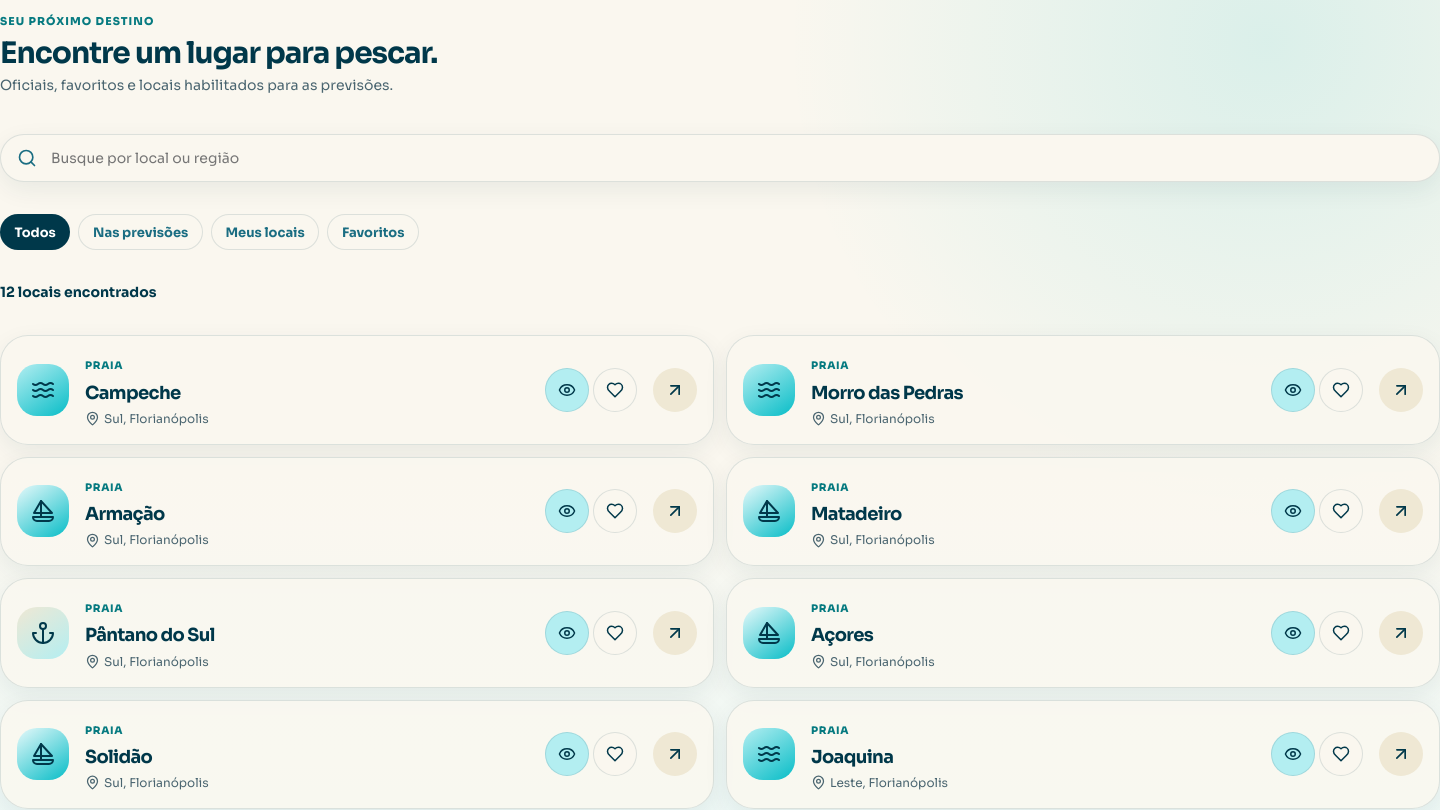
Test case: LocationsPage › filtra locais ignorando acentos
Expected: the text "12 locais encontrados" is shown, [0,283,156,301]
Type "acores" into the search field named "Buscar locais". click: (736,158)
box: [49,147,1423,170]
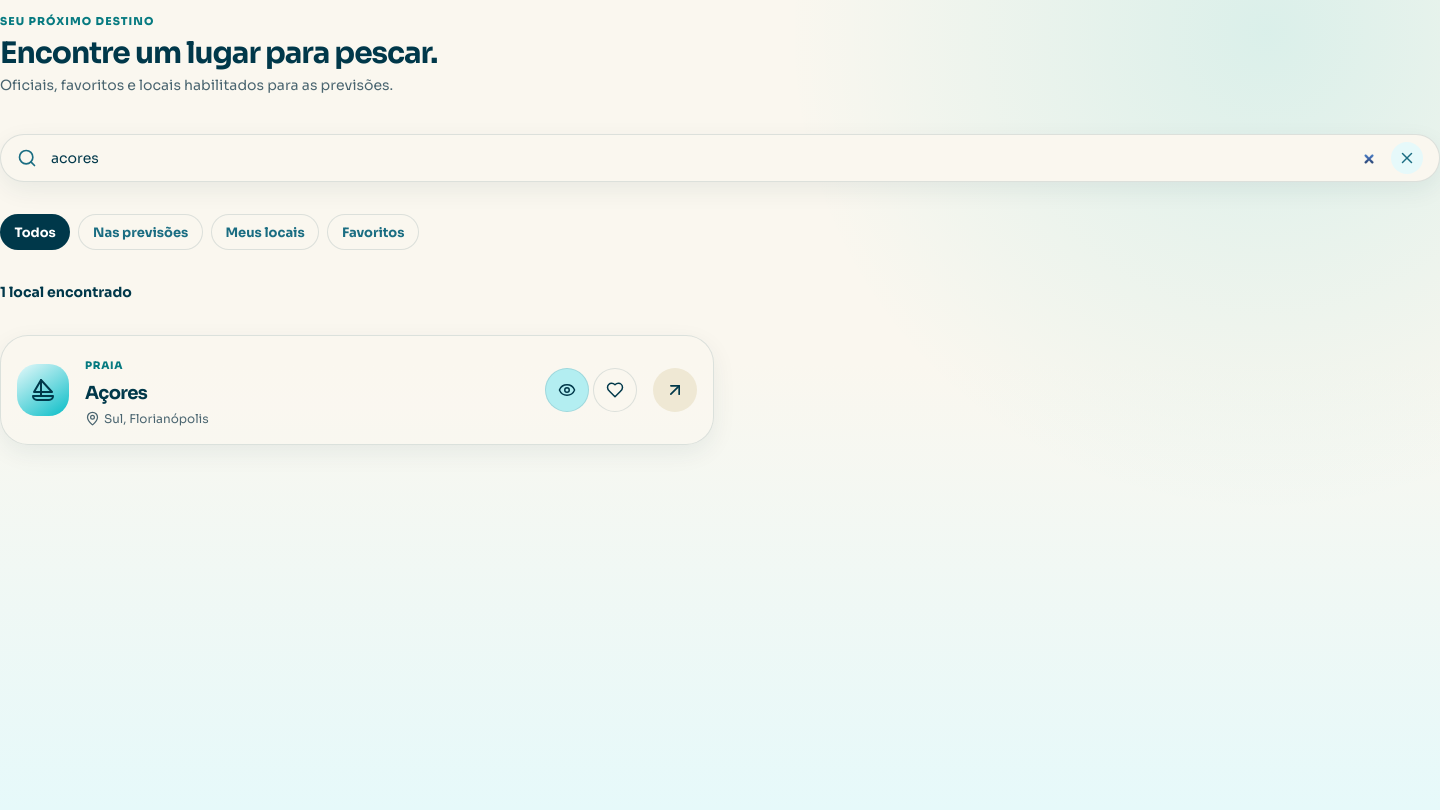
Expected: the heading "Açores" is shown, [85,382,147,404]
Result: the text "1 local encontrado" is shown at [0,283,132,301]
